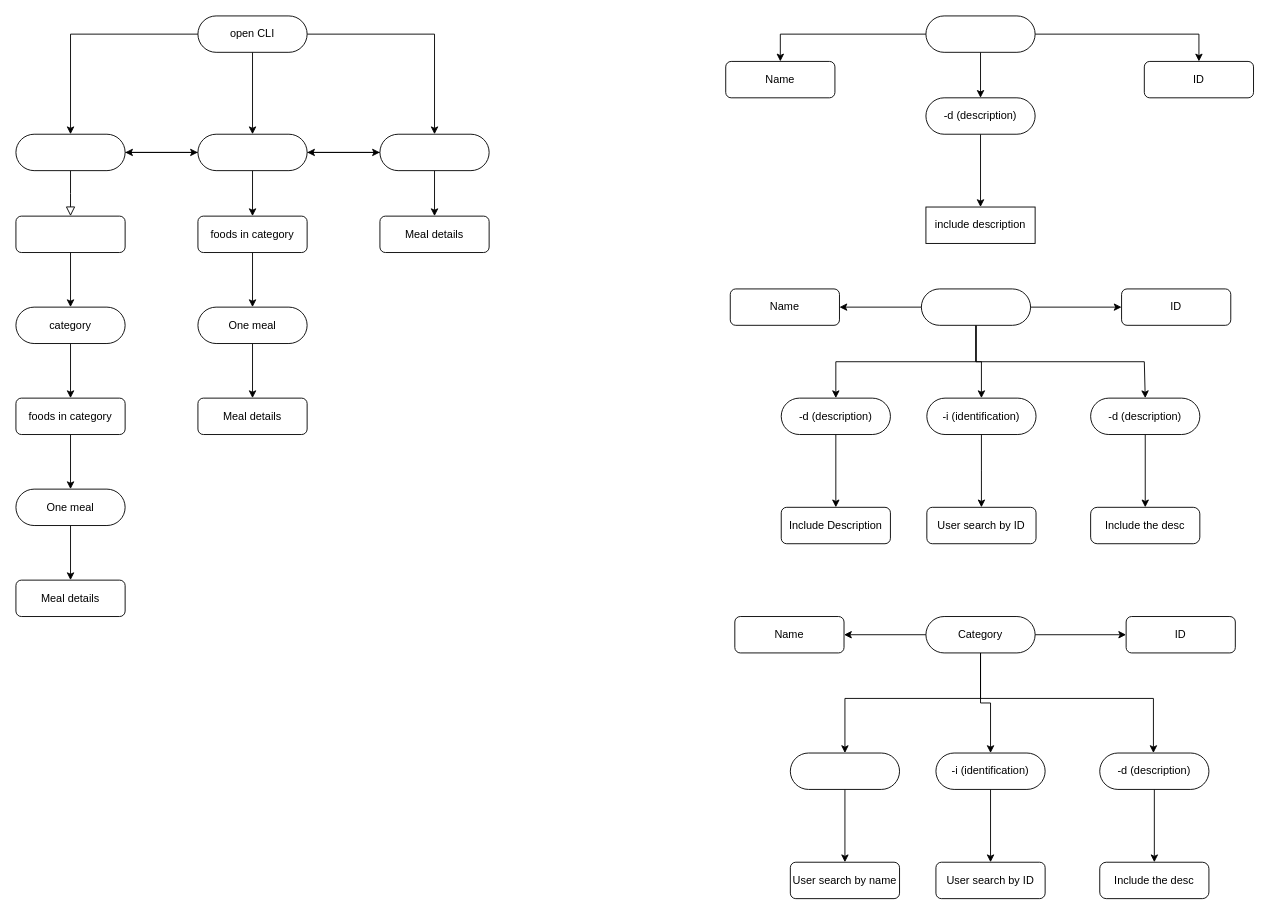
Some shapes in this 1269 by 915 pixel diagram are drawn without their labels. Each missing label, with the centre of its shape:
"-n (name)" goes at [844,770].
"All categories" goes at [980,33].
"categories" goes at [70,152].
"Food categories" goes at [70,234].
"Meal" goes at [975,306].
"one category" goes at [252,152].
"One meal by ID" goes at [434,152].
